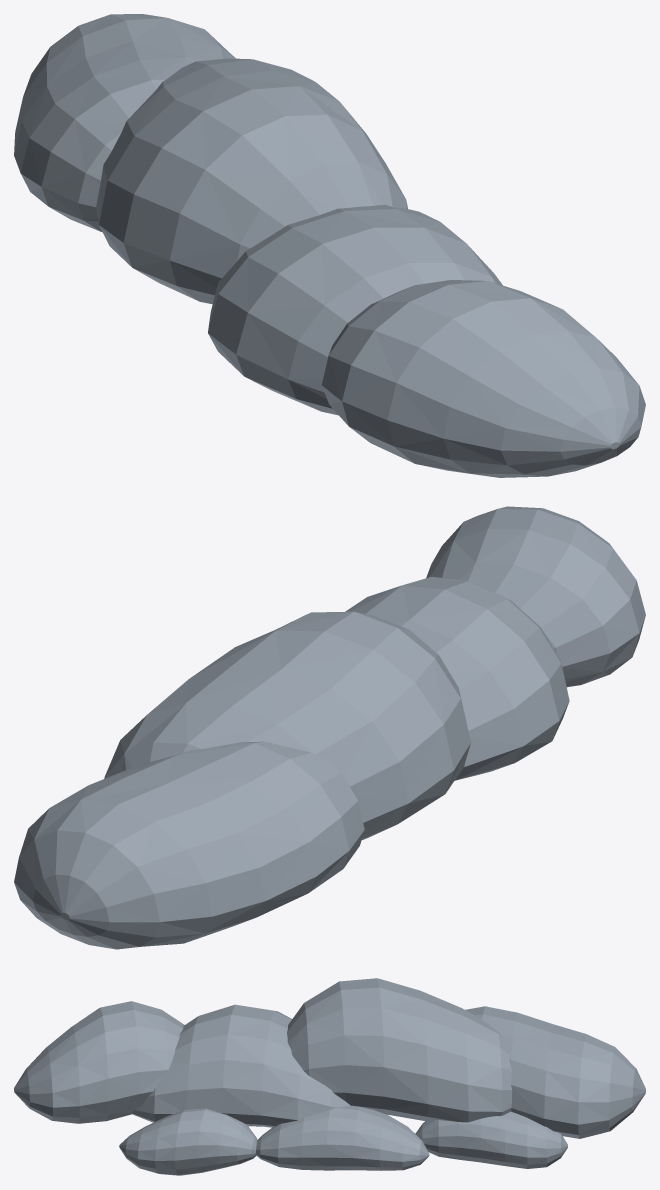
File: storm_front_shelf.glb
3 views of the same model, one above another, from view 1: azimuth 30°, elevation 25°; view 2: azimuth 150°, elevation 25°; view 3: azimuth 270°, elevation 25° (orthographic). The views are drawn at different scales.
Visible parts, largest first — view 1: Front shelf main shoulder 03, Front shelf main shoulder 01, Front shelf main shoulder 02, Front shelf main shoulder 00; view 2: Front shelf main shoulder 00, Front shelf main shoulder 01, Front shelf main shoulder 03, Front shelf main shoulder 02; view 3: Front shelf main shoulder 01, Front shelf main shoulder 02, Front shelf main shoulder 03, Front shelf main shoulder 00, Front shelf lower rolled lip 01, Front shelf lower rolled lip 02, Front shelf lower rolled lip 00.
Boxes of the visible parts, x1,y1,x2,y2 form: Front shelf main shoulder 03: (321, 280, 645, 477); Front shelf main shoulder 01: (96, 58, 407, 304); Front shelf main shoulder 02: (208, 204, 502, 415); Front shelf main shoulder 00: (14, 14, 235, 232); Front shelf main shoulder 00: (14, 741, 364, 949); Front shelf main shoulder 01: (104, 611, 470, 839); Front shelf main shoulder 03: (426, 506, 645, 687); Front shelf main shoulder 02: (345, 577, 569, 780); Front shelf main shoulder 01: (287, 978, 512, 1122); Front shelf main shoulder 02: (131, 1004, 350, 1127); Front shelf main shoulder 03: (14, 1001, 184, 1123); Front shelf main shoulder 00: (465, 1006, 645, 1138); Front shelf lower rolled lip 01: (256, 1105, 429, 1170); Front shelf lower rolled lip 02: (119, 1108, 257, 1175); Front shelf lower rolled lip 00: (415, 1111, 567, 1168).
Size of the model in its own units: 744 by 548 by 2110.
